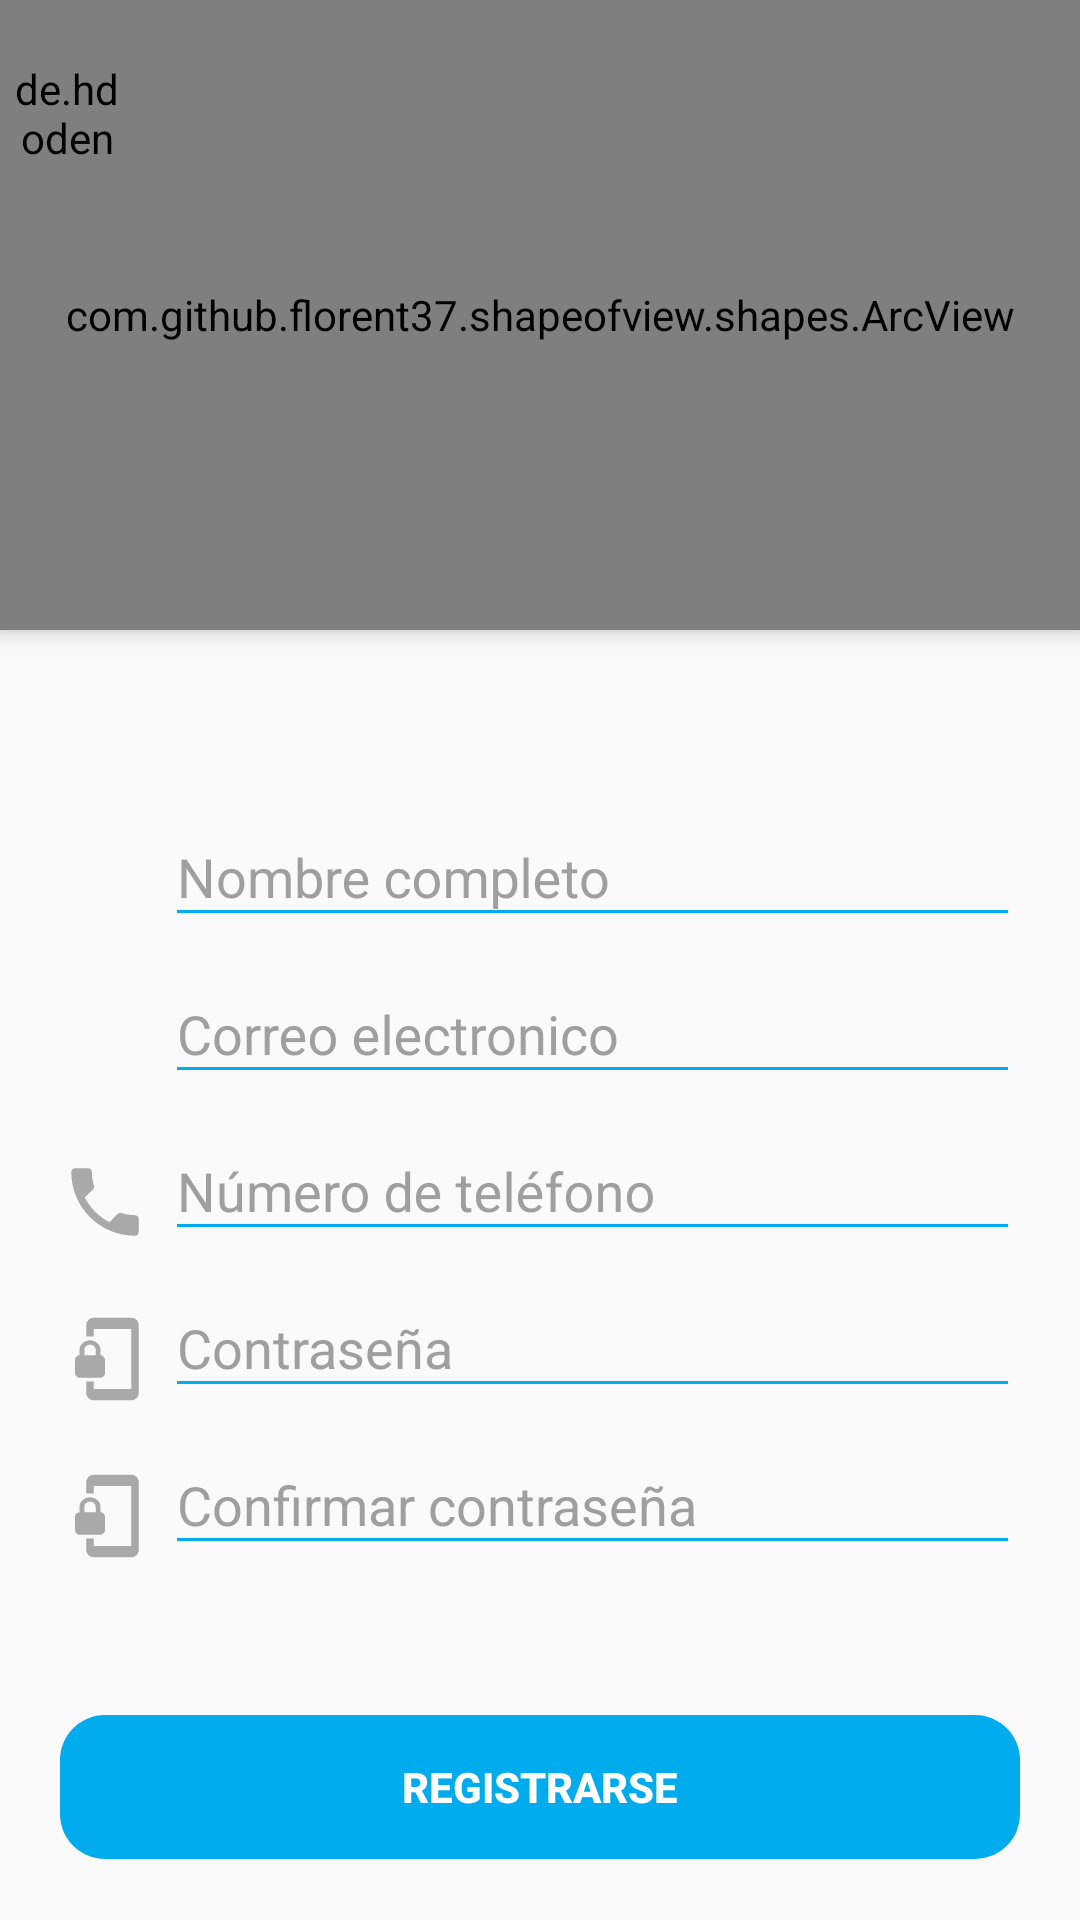

Point at icon controls on the screen. Image size 1080x1920, points as [x,y].
lock: [107,1359], [107,1516]
phone: [105,1202]
